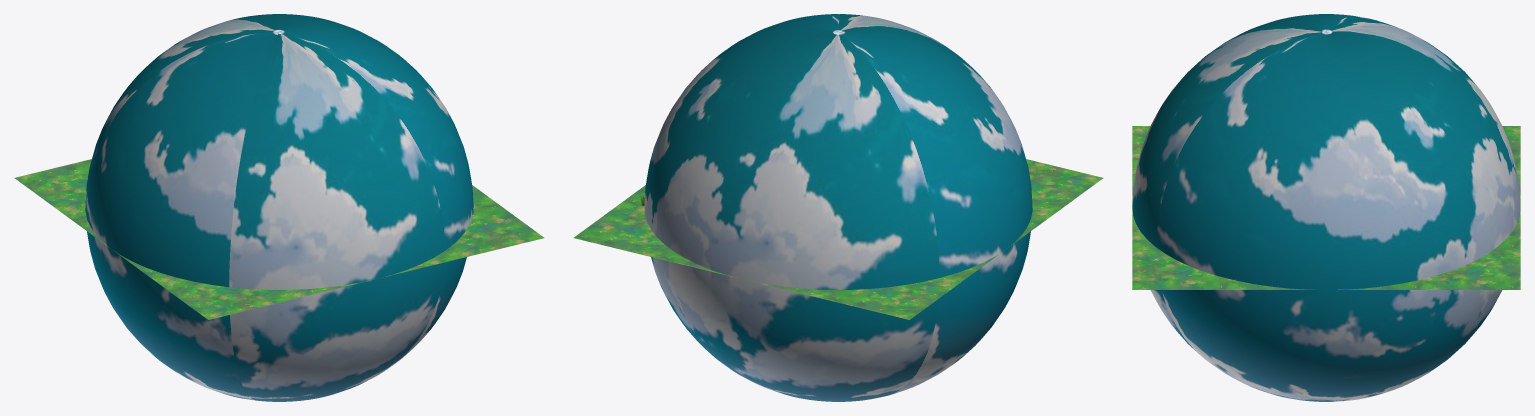
Rendered from Grassland.glb.
3 views of the same model, side by side, from view 1: azimuth 30°, elevation 25°; view 2: azimuth 150°, elevation 25°; view 3: azimuth 270°, elevation 25° (orthographic).
Parts seen in each view (by area): view 1: Sphere, Plane.001; view 2: Sphere, Plane.001; view 3: Sphere, Plane.001.
Part boxes in pixels (left/top/right/bottom): Sphere: left=85, top=14, right=473, bottom=401; Plane.001: left=14, top=159, right=544, bottom=319; Sphere: left=644, top=14, right=1032, bottom=401; Plane.001: left=573, top=159, right=1103, bottom=319; Sphere: left=1132, top=14, right=1520, bottom=401; Plane.001: left=1132, top=126, right=1520, bottom=289.
Bounding box in the file's own units: 25 × 25 × 25.
Materials: 16 (16 with a texture image).
